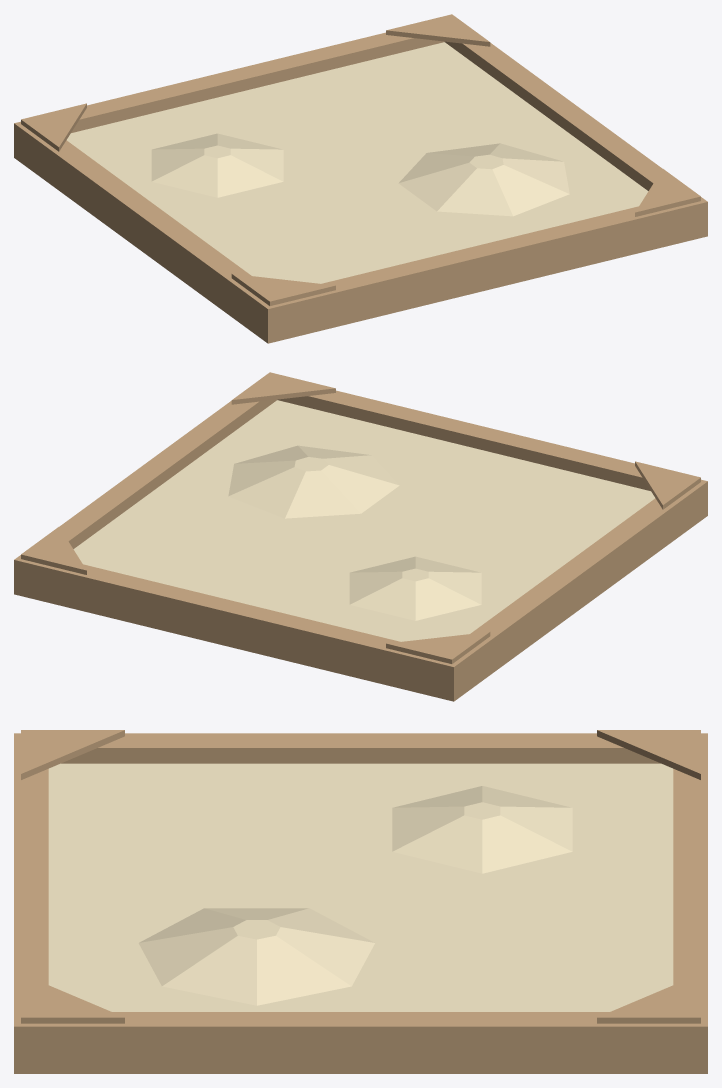
The model's file is sandpit.glb.
The picture shows the model from 3 angles, top to bottom: view 1: azimuth 30°, elevation 25°; view 2: azimuth 150°, elevation 25°; view 3: azimuth 270°, elevation 25°; orthographic projection. The views are drawn at different scales.
Size of the model in its own units: 2 by 0.18 by 2.
